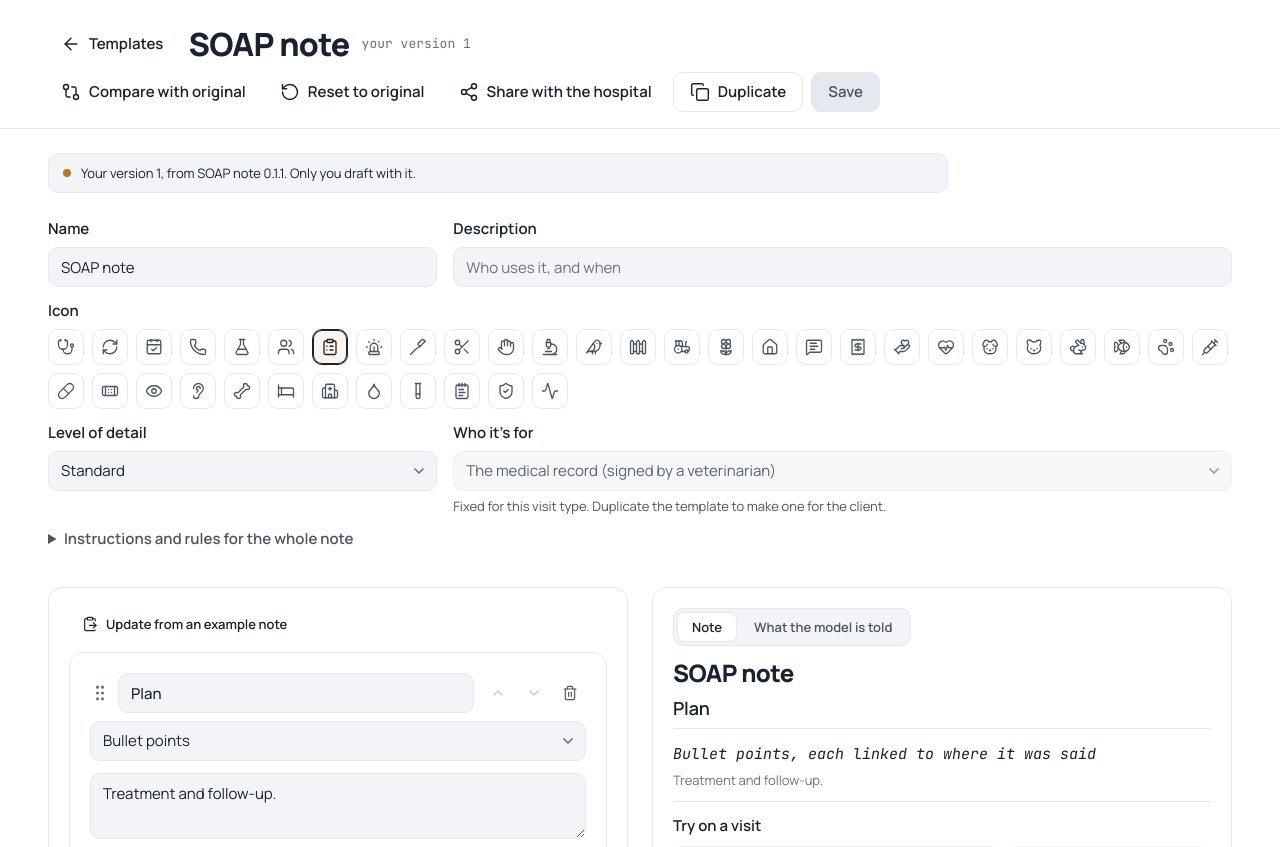
Test: Templates: the editor › shares with an admin's PIN, and keeps the dialog open on a wrong one
Click the button "Share with the hospital".
click(555, 92)  # box top-left (446, 72), bottom-right (665, 112)
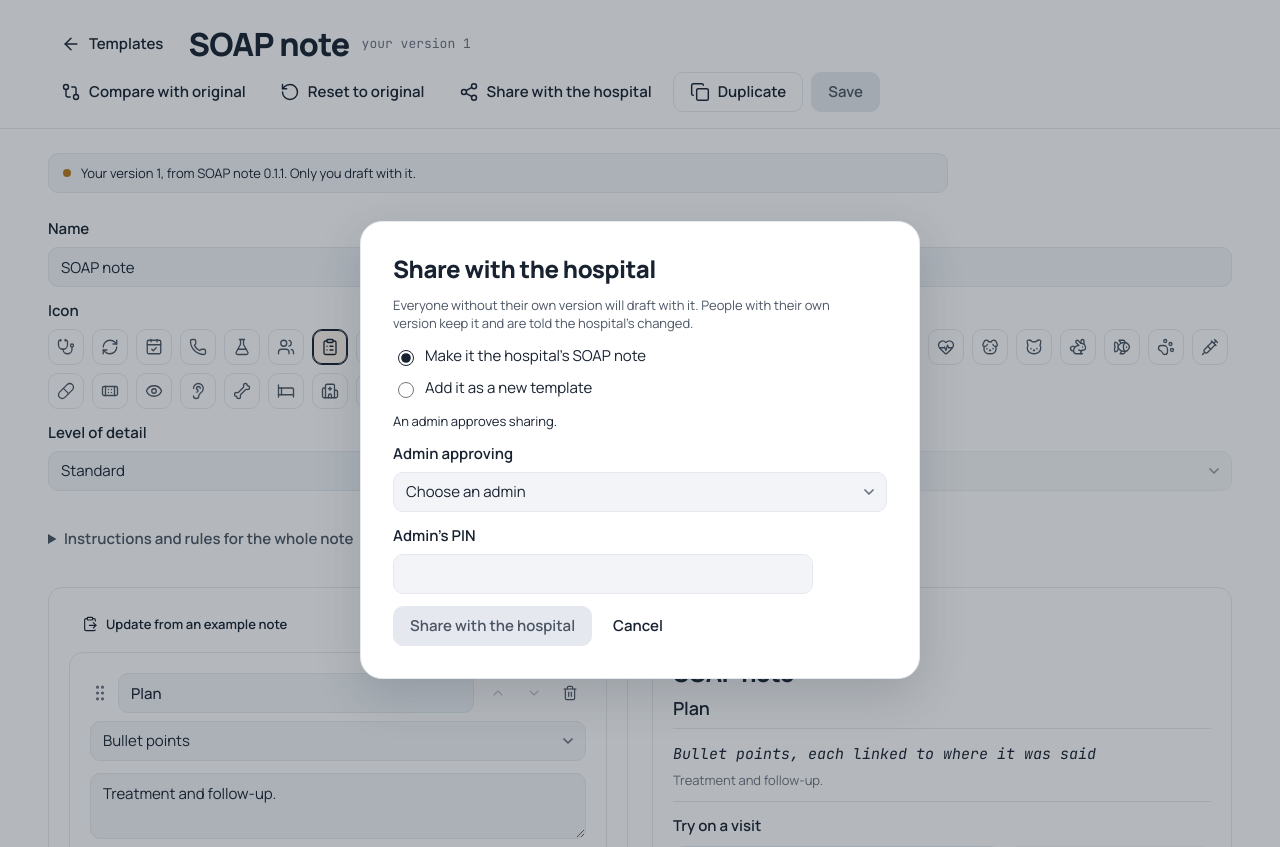
Select "Dr Rivera" in the dropdown labelled "Admin approving" at {"x": 640, "y": 492}, box top-left (393, 472), bottom-right (887, 512)
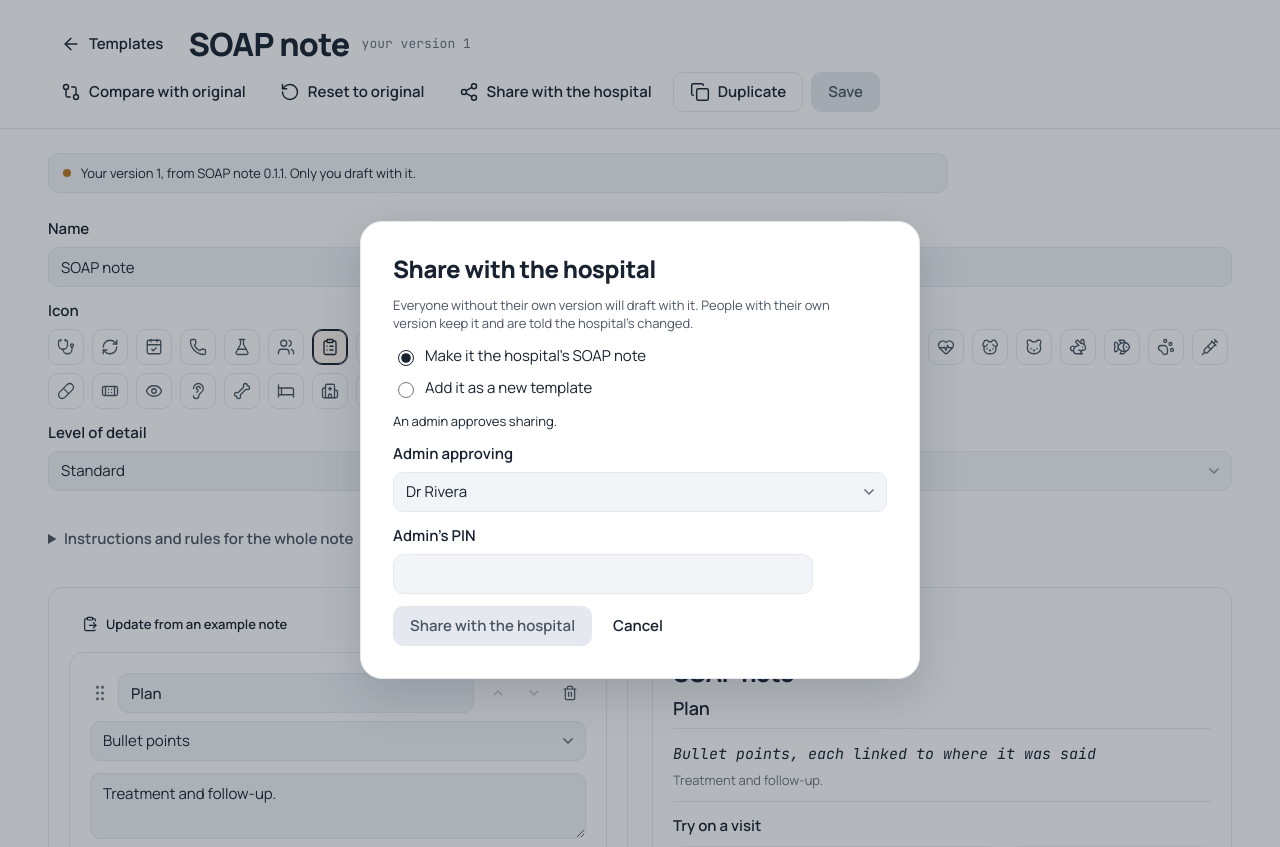
Type "0000" into the password field labelled "Admin's PIN".
click(603, 574); type("0000")  # box top-left (393, 554), bottom-right (813, 594)
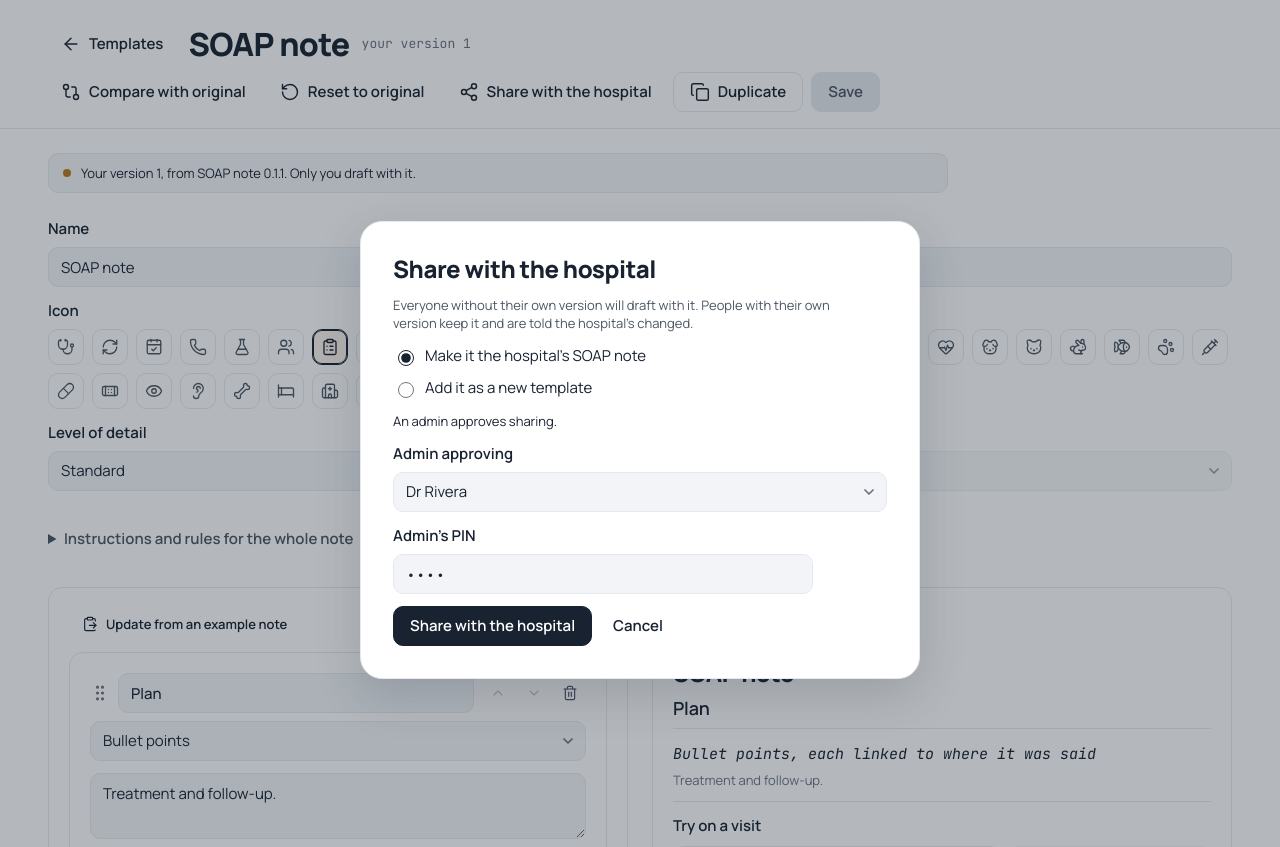
Click the button "Share with the hospital".
click(493, 626)  # box top-left (393, 606), bottom-right (592, 646)
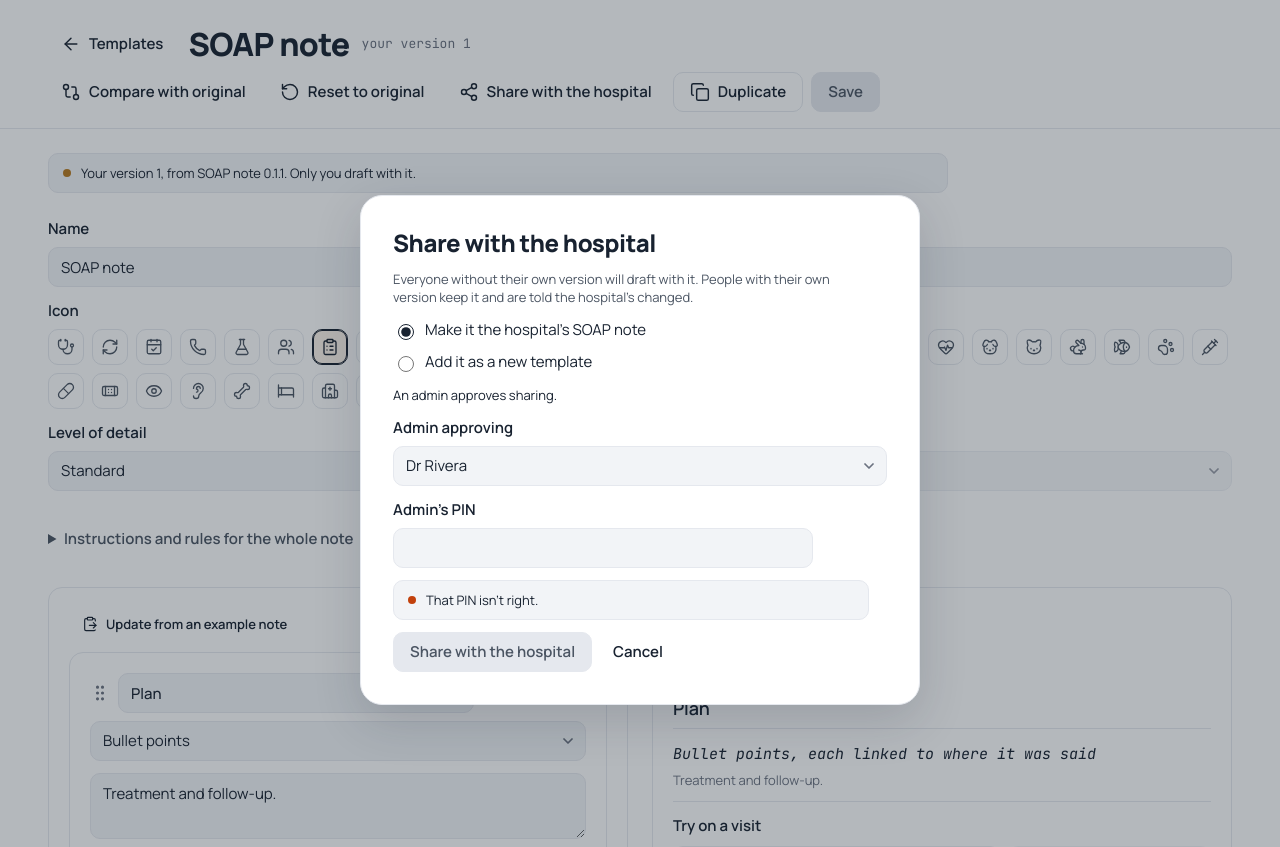
Expected: the dialog is shown, top-left (360, 195), bottom-right (920, 705)
Expected: the text "That PIN isn't right." is shown, top-left (393, 580), bottom-right (869, 620)
